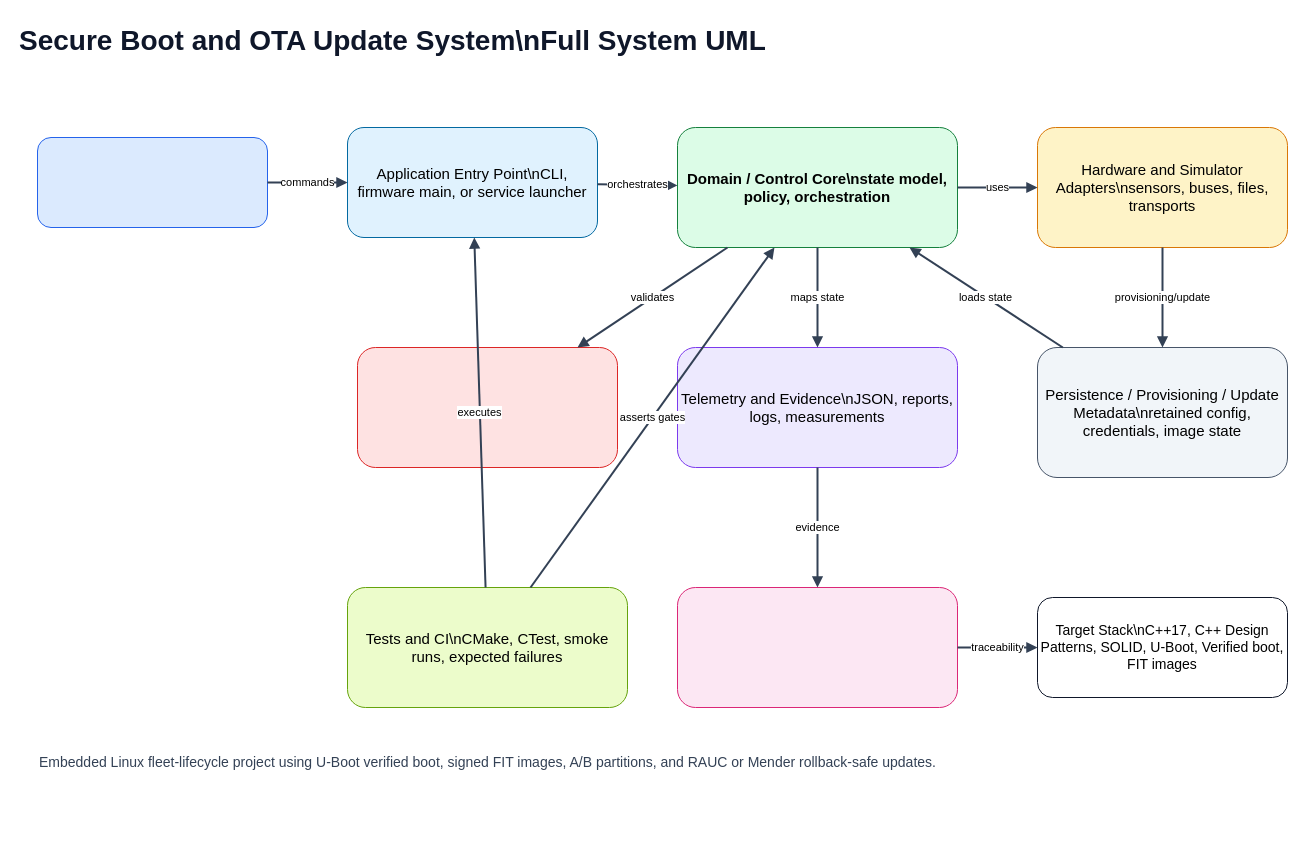
The diagram is 1305 pixels wide and 844 high, and some of its shapes have lost their labels. Here are the shapes that lost their labels. From the top down, the centre of each, then its label:
At (x=152, y=182): "Operator / Cloud / Test Harness".
At (x=487, y=407): "Safety / Readiness Gates\nconfig, battery, timing, OTA, bounds".
At (x=817, y=647): "Documentation Package\nREADME, architecture, validation plan, UML".
